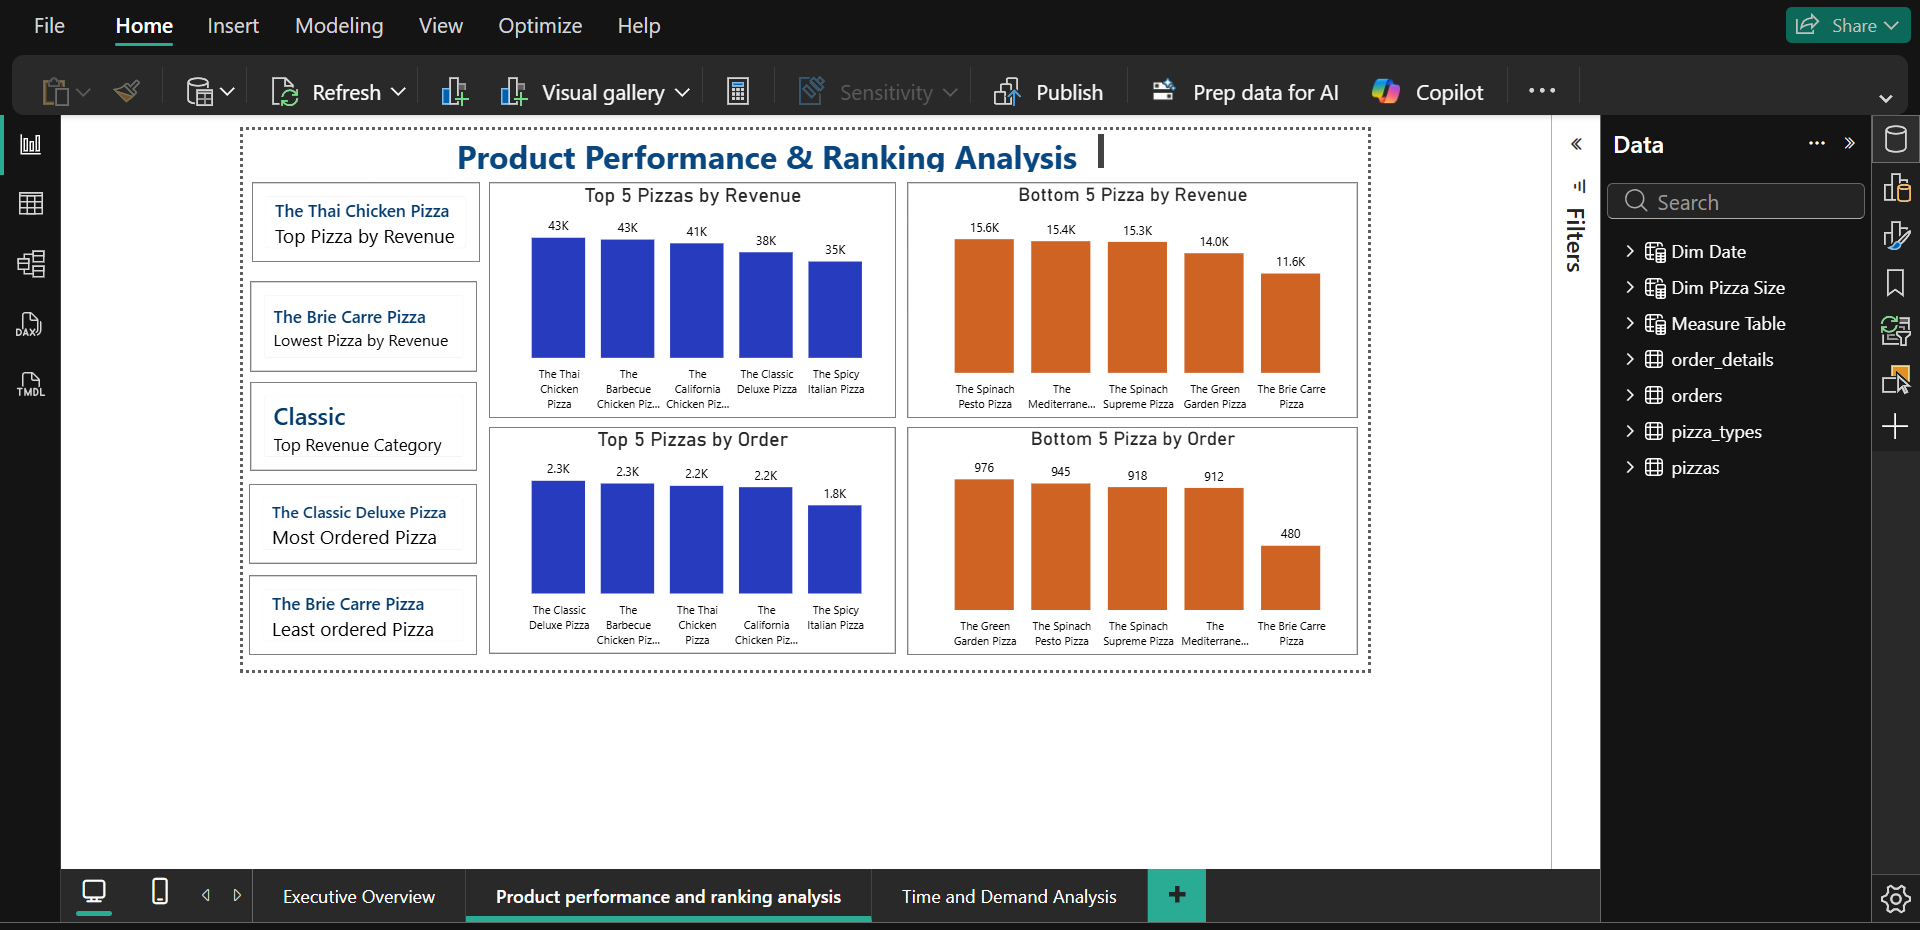

This screenshot's page, from the dashboard's own definition file:
{"tool":"powerbi","page":{"name":"Product performance and ranking analysis","canvas":[1280,720],"ordinal":1},"visuals":[{"type":"cardVisual","title":"Top Pizza by Name","fields":{"Data":["Measure Table.Top Pizza Name"]},"box":[18.2,60.8,392.9,119.5],"z":0},{"type":"cardVisual","title":"Top Pizza by Name","fields":{"Data":["Measure Table.Top Pizza Revenue"]},"box":[427.3,60.8,267.3,119.5],"z":1000},{"type":"cardVisual","title":"Top Pizza by Name","fields":{"Data":["Measure Table.Top Pizza Quantity"]},"box":[708.9,60.8,257.2,119.5],"z":2000},{"type":"cardVisual","title":"Top Pizza by Name","fields":{"Data":["Measure Table.Lowest  Revenue Pizza Name"]},"box":[18.2,202.5,392.9,119.5],"z":3000},{"type":"cardVisual","title":"Top Pizza by Name","fields":{"Data":["Measure Table.Lowest Pizza Revenue"]},"box":[427.4,202.1,316.4,119.3],"z":4000},{"type":"cardVisual","title":"Top Pizza by Name","fields":{"Data":["Measure Table.Best Category Pizza"]},"box":[980.3,60.8,281.5,119.5],"z":5000},{"type":"clusteredColumnChart","title":"Top 10 Pizzas by Revenue","fields":{"Category":["pizza_types.name"],"Y":["Measure Table.Total Revenue"]},"box":[0,338.2,743.3,358.5],"z":6000},{"type":"clusteredColumnChart","title":"Bottom 5 Pizza by Revenue","fields":{"Category":["pizza_types.name"],"Y":["Measure Table.Total Revenue"]},"box":[759.5,202.5,506.3,494.2],"z":7000},{"type":"textbox","box":[279.5,0,872.9,60.8],"z":8000}]}

Visuals, with their boxes on the page's 1280x720 design canvas (x1, y1, x2, y2). These are canvas units, not pixel positions in the 1920x930 screenshot, which may show the page scaled, cropped or inside an application window:
"Top Pizza by Name" cardVisual: left=18, top=61, right=411, bottom=180
"Top Pizza by Name" cardVisual: left=427, top=61, right=695, bottom=180
"Top Pizza by Name" cardVisual: left=709, top=61, right=966, bottom=180
"Top Pizza by Name" cardVisual: left=18, top=202, right=411, bottom=322
"Top Pizza by Name" cardVisual: left=427, top=202, right=744, bottom=321
"Top Pizza by Name" cardVisual: left=980, top=61, right=1262, bottom=180
"Top 10 Pizzas by Revenue" clusteredColumnChart: left=0, top=338, right=743, bottom=697
"Bottom 5 Pizza by Revenue" clusteredColumnChart: left=760, top=202, right=1266, bottom=697
textbox: left=280, top=0, right=1152, bottom=61
